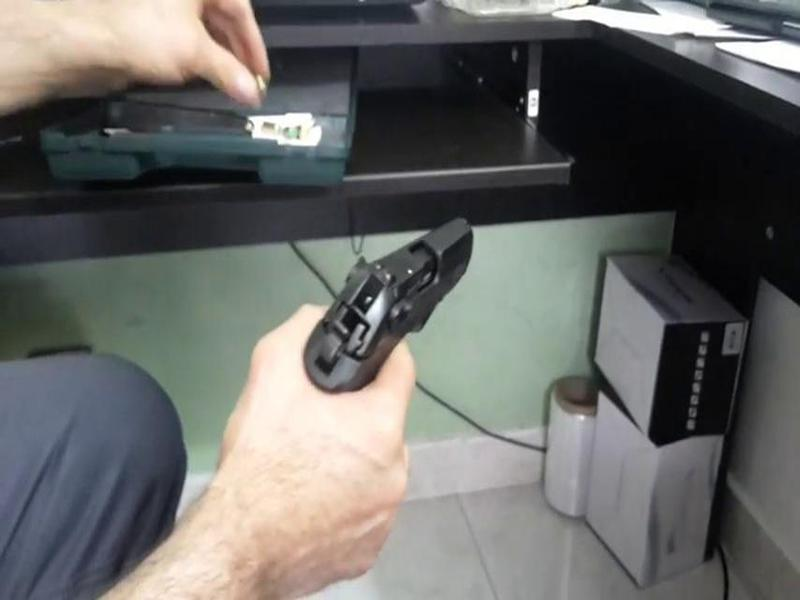Pistola: (285, 209, 489, 414)
